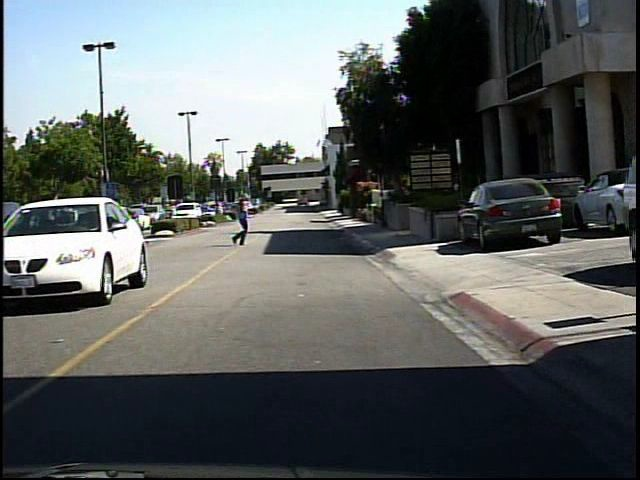person: (224, 187, 255, 248)
